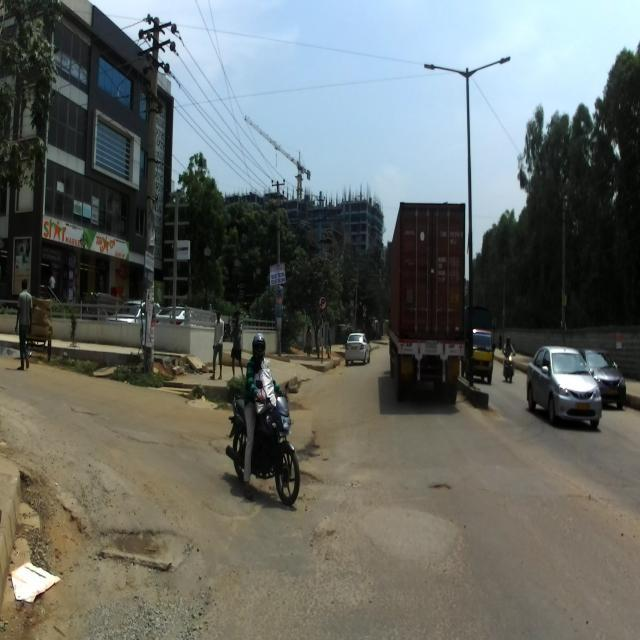pothole: (23, 468, 90, 574), (296, 434, 316, 459)
